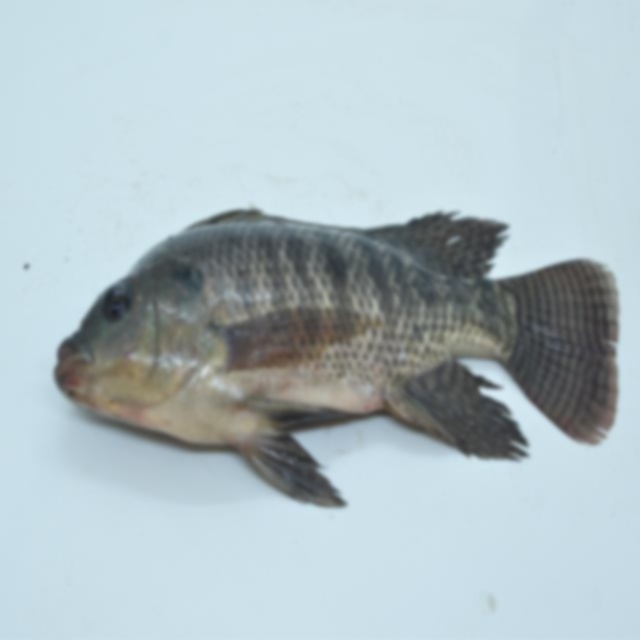Healthy Fish: (32, 200, 630, 507)
